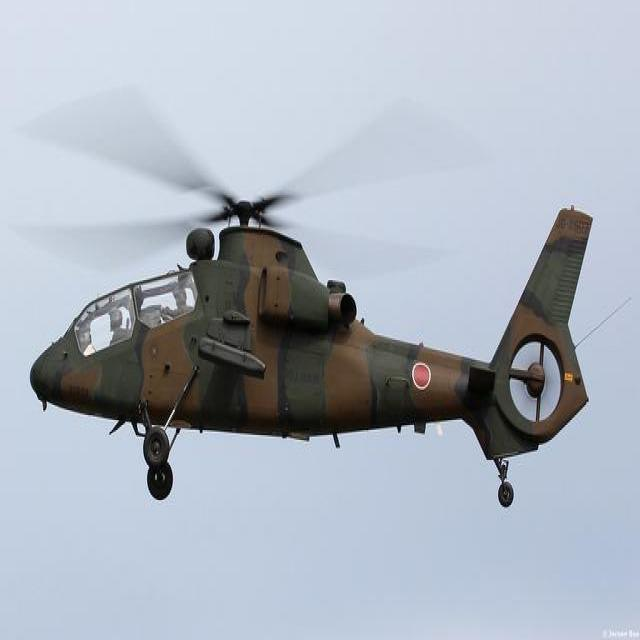MIL_HELO: (28, 76, 615, 546)
